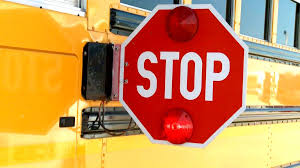SS: (118, 4, 246, 147)
